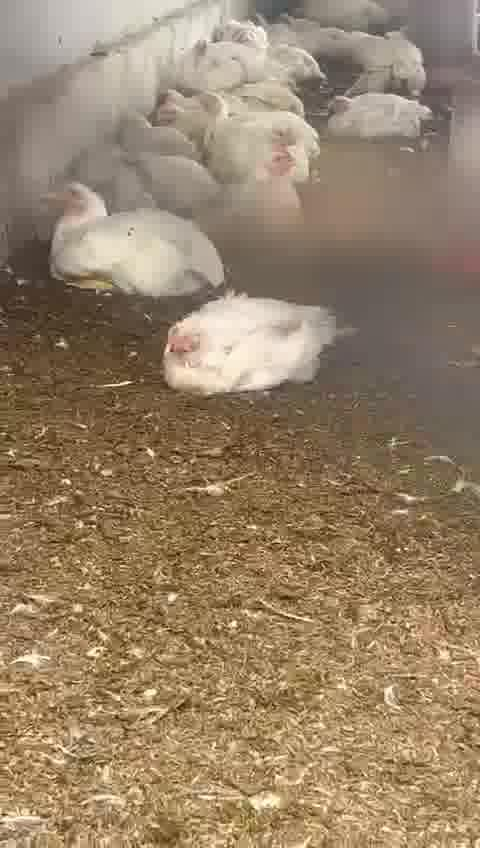AbNormal: (165, 304, 339, 397), (193, 142, 310, 246), (194, 90, 323, 182), (320, 90, 430, 141)
Normal: (42, 174, 223, 298)
